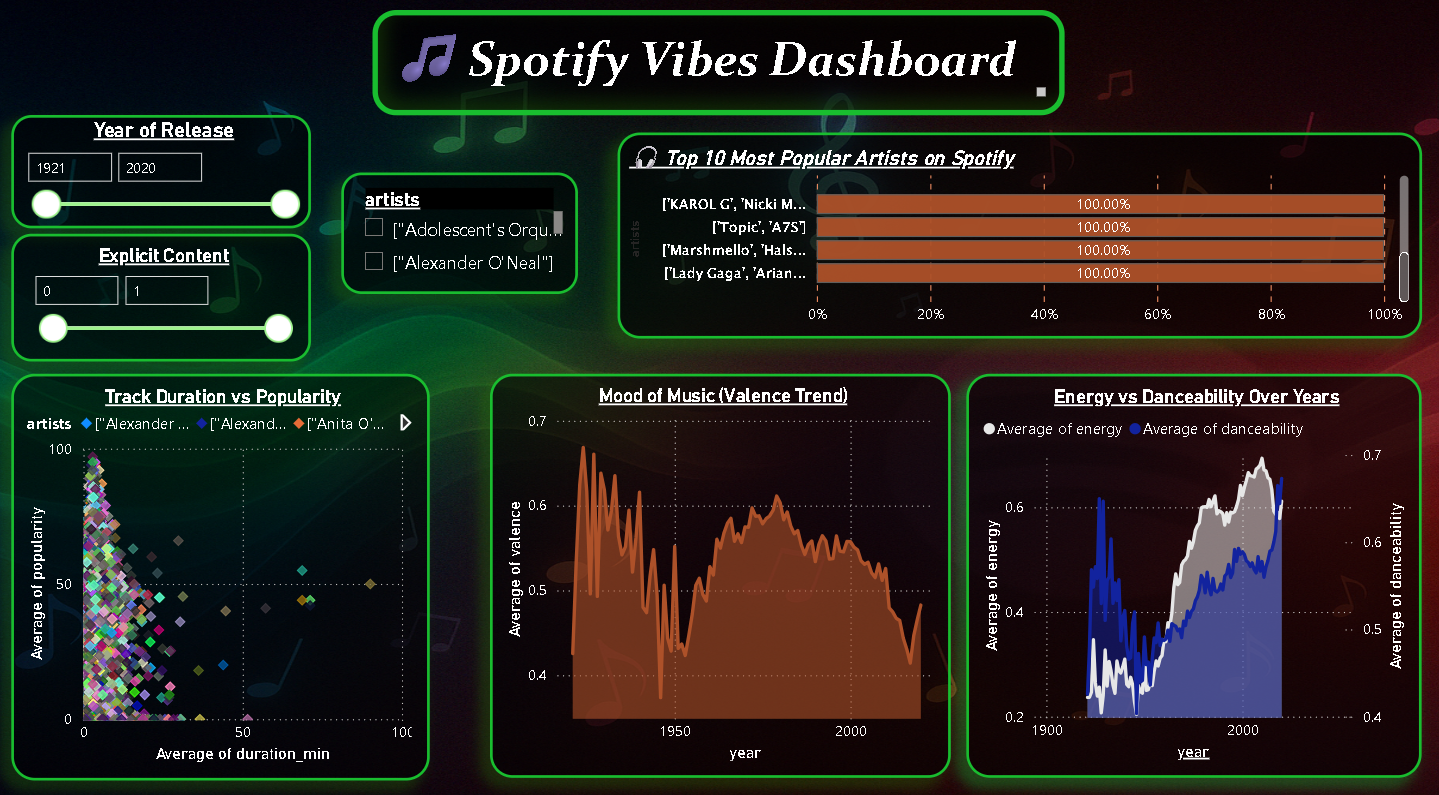

What the dashboard file says about the page in this screenshot:
{"tool":"powerbi","page":{"name":"Spotify Insights","canvas":[1280,720],"ordinal":0},"visuals":[{"type":"textbox","title":"🎵 Spotify Vibes Dashboard","box":[331.5,17.3,615.5,93.7],"z":0},{"type":"slicer","title":"Year of Release","fields":{"Values":["spotify_data xlsx.year"]},"box":[10.1,111,236.4,93.7],"z":1000},{"type":"slicer","title":"\tExplicit Content","fields":{"Values":["spotify_data xlsx.explicit"]},"box":[10.1,216.2,236.4,93.7],"z":2000},{"type":"slicer","fields":{"Values":["spotify_data xlsx.artists"]},"box":[276.8,158.6,210.5,108.1],"z":3000},{"type":"lineChart","title":"Energy vs Danceability Over Years","fields":{"Category":["spotify_data xlsx.year"],"Y":["Avg(spotify_data xlsx.energy)"],"Y2":["Avg(spotify_data xlsx.danceability)"]},"box":[859.1,341.6,405,358.9],"z":4000},{"type":"lineChart","title":"Mood of Music (Valence Trend)","fields":{"Category":["spotify_data xlsx.year"],"Y":["Avg(spotify_data xlsx.valence)"]},"box":[435.3,341.6,409.4,358.9],"z":5000},{"type":"hundredPercentStackedBarChart","title":"🎧 Top 10 Most Popular Artists on Spotify\n","fields":{"Category":["spotify_data xlsx.artists"],"Y":["Avg(spotify_data xlsx.popularity)"]},"box":[549.2,126.8,715,183.1],"z":6000},{"type":"scatterChart","title":"Track Duration vs Popularity\n","fields":{"Y":["Avg(spotify_data xlsx.popularity)"],"Series":["spotify_data xlsx.artists"],"X":["Avg(spotify_data xlsx.duration_min)"]},"box":[10.1,341.6,371.9,361.8],"z":7000}]}

Visuals, with their boxes in screenshot pixels (x1, y1, x2, y2), scaled from the page's 1280x720 canvas onto the 1439x795 screenshot:
"🎵 Spotify Vibes Dashboard" textbox: bbox(373, 19, 1065, 123)
"Year of Release" slicer: bbox(11, 123, 277, 226)
"	Explicit Content" slicer: bbox(11, 239, 277, 342)
slicer - spotify_data xlsx.artists: bbox(311, 175, 548, 294)
"Energy vs Danceability Over Years" lineChart: bbox(966, 377, 1421, 773)
"Mood of Music (Valence Trend)" lineChart: bbox(489, 377, 950, 773)
"🎧 Top 10 Most Popular Artists on Spotify
" hundredPercentStackedBarChart: bbox(617, 140, 1421, 342)
"Track Duration vs Popularity
" scatterChart: bbox(11, 377, 429, 777)
